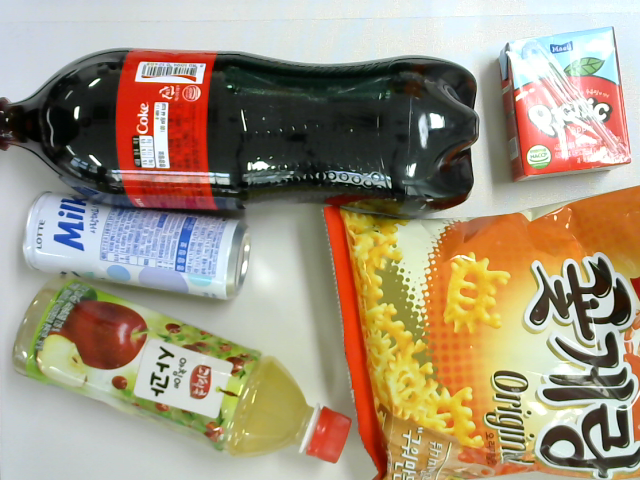Coca_Cola_1.5L: (1, 45, 479, 213)
Crabrang: (323, 183, 639, 480)
Milkies_250ml: (21, 192, 251, 301)
Morning_Apple_500ml: (9, 281, 351, 463)
Picnic_Apple: (497, 27, 632, 181)
